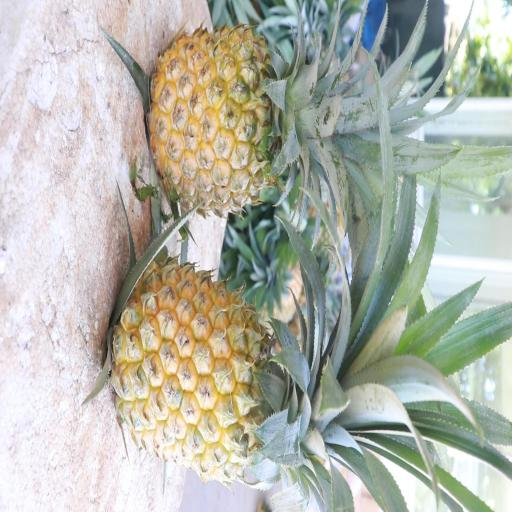Pineapple - v8 v1: (108, 254, 368, 485), (144, 20, 350, 218)
